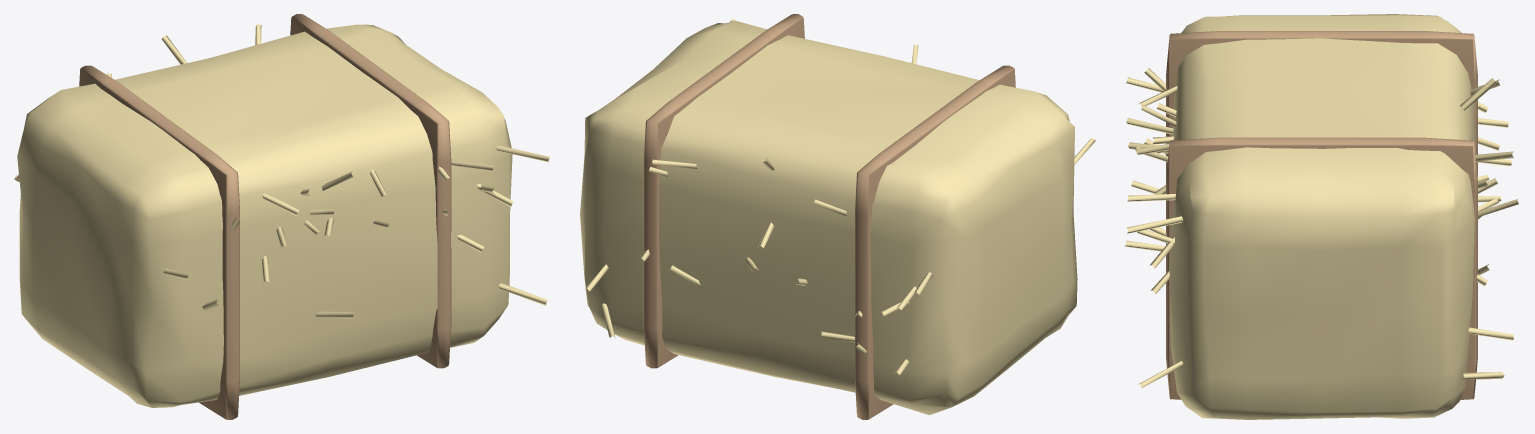
File: HayBale.glb
3 views of the same model, side by side, from view 1: azimuth 30°, elevation 25°; view 2: azimuth 150°, elevation 25°; view 3: azimuth 270°, elevation 25° (orthographic). The views are drawn at different scales.
Visible parts, largest first — view 1: Straw, Twine; view 2: Straw, Twine; view 3: Straw, Twine.
Boxes of the visible parts, box(x1,y1,x2,y2) form: Straw: box(14, 24, 549, 407); Twine: box(79, 14, 451, 419); Straw: box(580, 19, 1095, 415); Twine: box(643, 14, 1015, 419); Straw: box(1124, 14, 1518, 419); Twine: box(1166, 31, 1477, 399).
Size of the model in its own units: 4.09 by 2.52 by 3.45.
